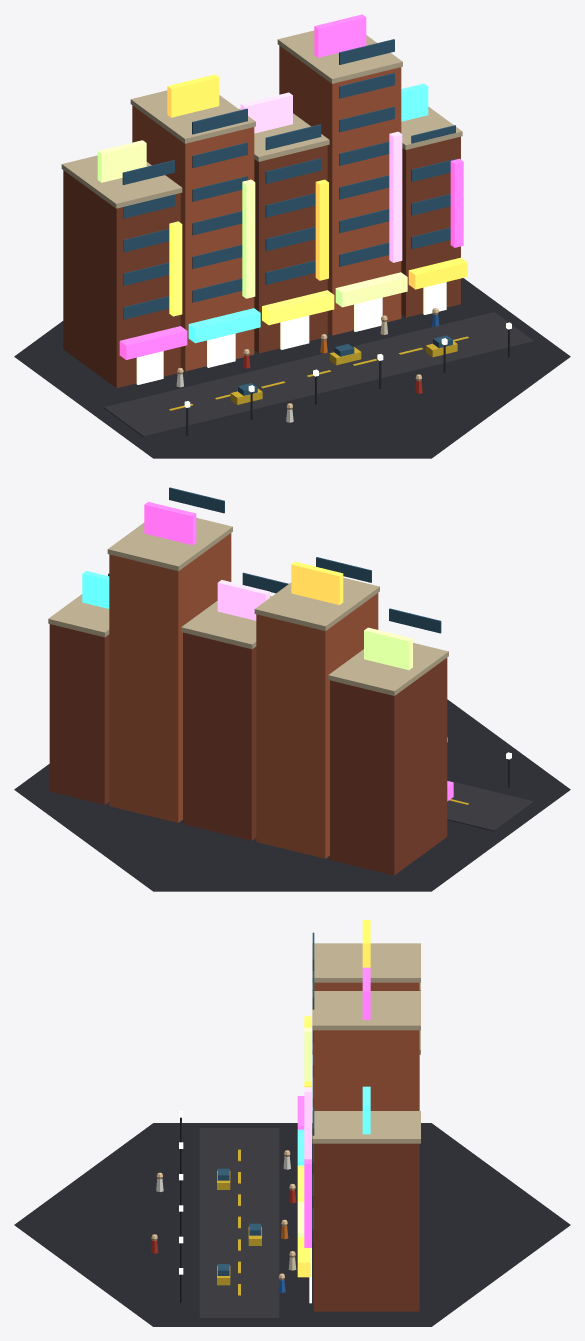
The model's file is wonder_broadway.fbx.
The picture shows the model from 3 angles, top to bottom: view 1: azimuth 30°, elevation 25°; view 2: azimuth 150°, elevation 25°; view 3: azimuth 270°, elevation 25°; orthographic projection.
Visible parts, largest first — view 1: wonder_broadway; view 2: wonder_broadway; view 3: wonder_broadway.
Boxes of the visible parts, x1,y1,x2,y2 form: wonder_broadway: [14, 14, 570, 458]; wonder_broadway: [14, 487, 570, 891]; wonder_broadway: [14, 920, 570, 1326].
Size of the model in its own units: 182 by 119 by 210.
